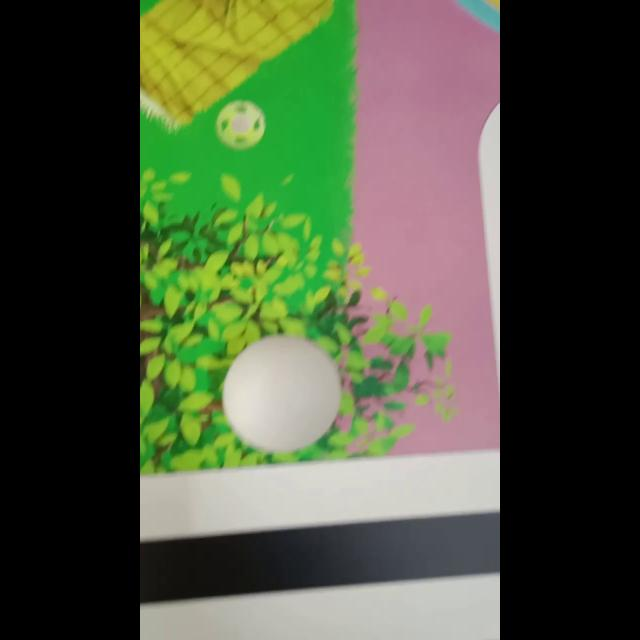white ball: (222, 333, 342, 453)
